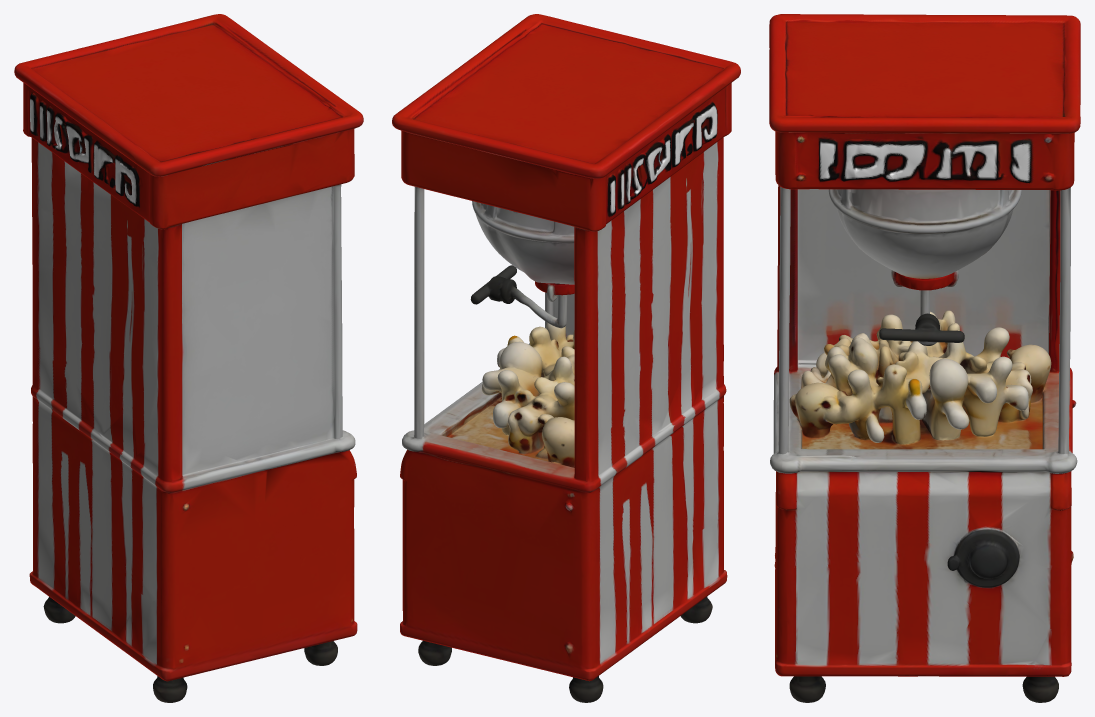
File: prop-popcorn-machine.glb
The picture shows the model from 3 angles, left to right: view 1: azimuth 30°, elevation 25°; view 2: azimuth 150°, elevation 25°; view 3: azimuth 270°, elevation 25°; orthographic projection. The views are drawn at different scales.
Visible parts, largest first — view 1: tripo_node_e9b04124-8525-46e6-9e49-36d962b9f9d3; view 2: tripo_node_e9b04124-8525-46e6-9e49-36d962b9f9d3; view 3: tripo_node_e9b04124-8525-46e6-9e49-36d962b9f9d3.
Boxes of the visible parts, x1,y1,x2,y2 form: tripo_node_e9b04124-8525-46e6-9e49-36d962b9f9d3: (14,14,363,702); tripo_node_e9b04124-8525-46e6-9e49-36d962b9f9d3: (392,14,740,702); tripo_node_e9b04124-8525-46e6-9e49-36d962b9f9d3: (769,14,1080,702).
Bounding box in the file's own units: 0.6294 × 1.5 × 0.7145.
1 material, 1 textured.
